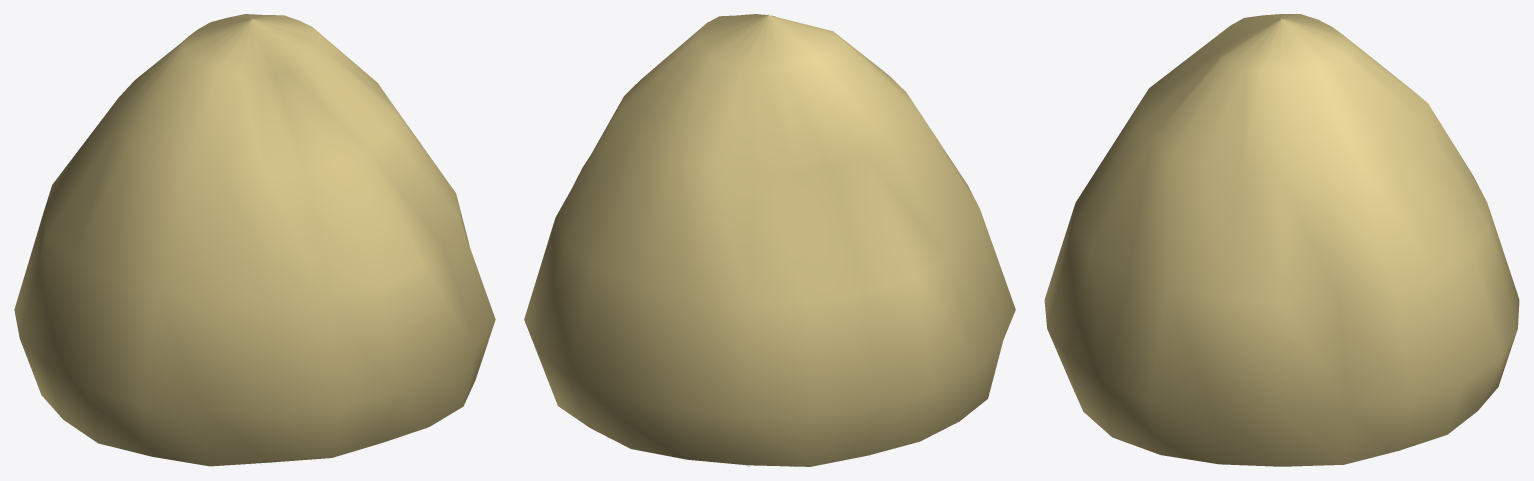
File: haystack.glb
The picture shows the model from 3 angles, left to right: view 1: azimuth 30°, elevation 25°; view 2: azimuth 150°, elevation 25°; view 3: azimuth 270°, elevation 25°; orthographic projection.
Visible parts, largest first — view 1: Haystack; view 2: Haystack; view 3: Haystack.
Part boxes in pixels (x1=…): Haystack: x1=14, y1=14, x2=495, y2=466; Haystack: x1=524, y1=14, x2=1015, y2=466; Haystack: x1=1044, y1=14, x2=1519, y2=466.
Bounding box in the file's own units: 2.18 × 1.82 × 2.17.
